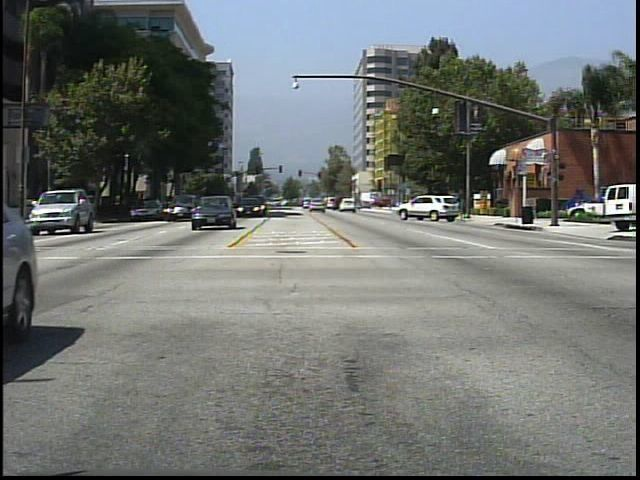person: (446, 188, 461, 220), (423, 189, 441, 215)
